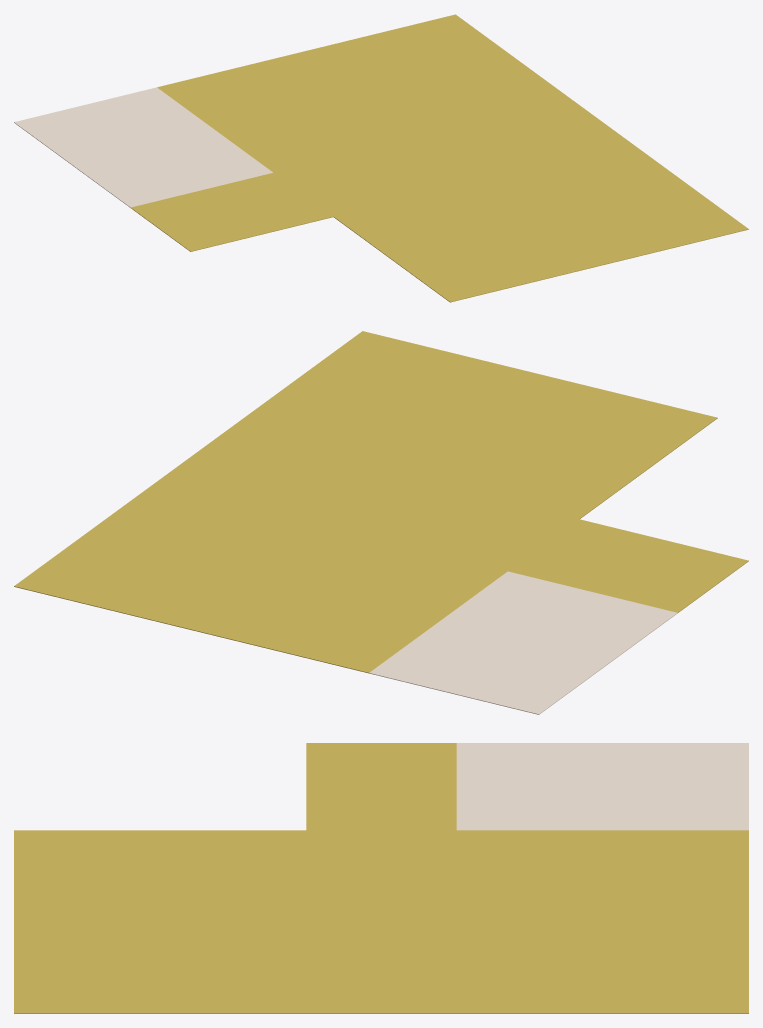
The model's file is floorTop.fbx.
3 views of the same model, one above another, from view 1: azimuth 30°, elevation 25°; view 2: azimuth 150°, elevation 25°; view 3: azimuth 270°, elevation 25° (orthographic). The views are drawn at different scales.
Visible parts, largest first — view 1: Floor; view 2: Floor; view 3: Floor.
Part boxes in pixels (x1=…): Floor: x1=14, y1=14, x2=748, y2=302; Floor: x1=14, y1=331, x2=748, y2=714; Floor: x1=14, y1=743, x2=748, y2=1013.
Size of the model in its own units: 1065 by 1.25 by 1225.
